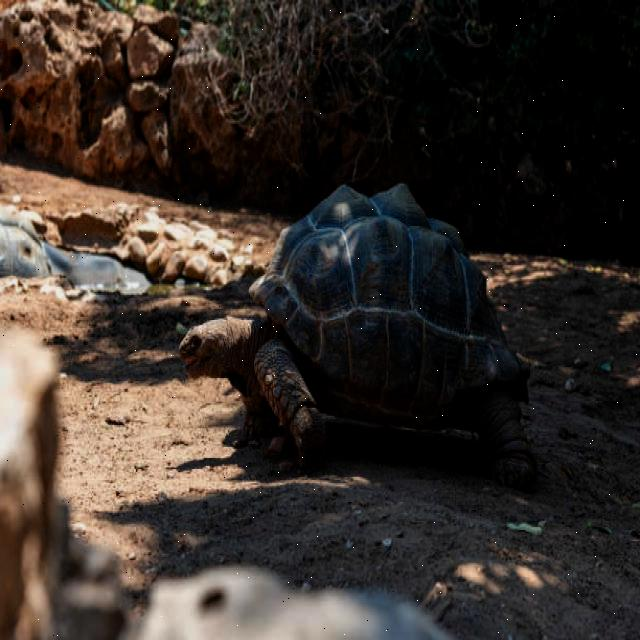tortoise: (171, 181, 545, 499)
